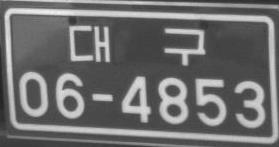0: (18, 69, 49, 117)
3: (233, 79, 266, 128)
4: (122, 75, 151, 123)
5: (195, 77, 227, 125)
6: (55, 71, 85, 119)
8: (157, 76, 189, 125)
대구_D: (67, 23, 205, 66)
